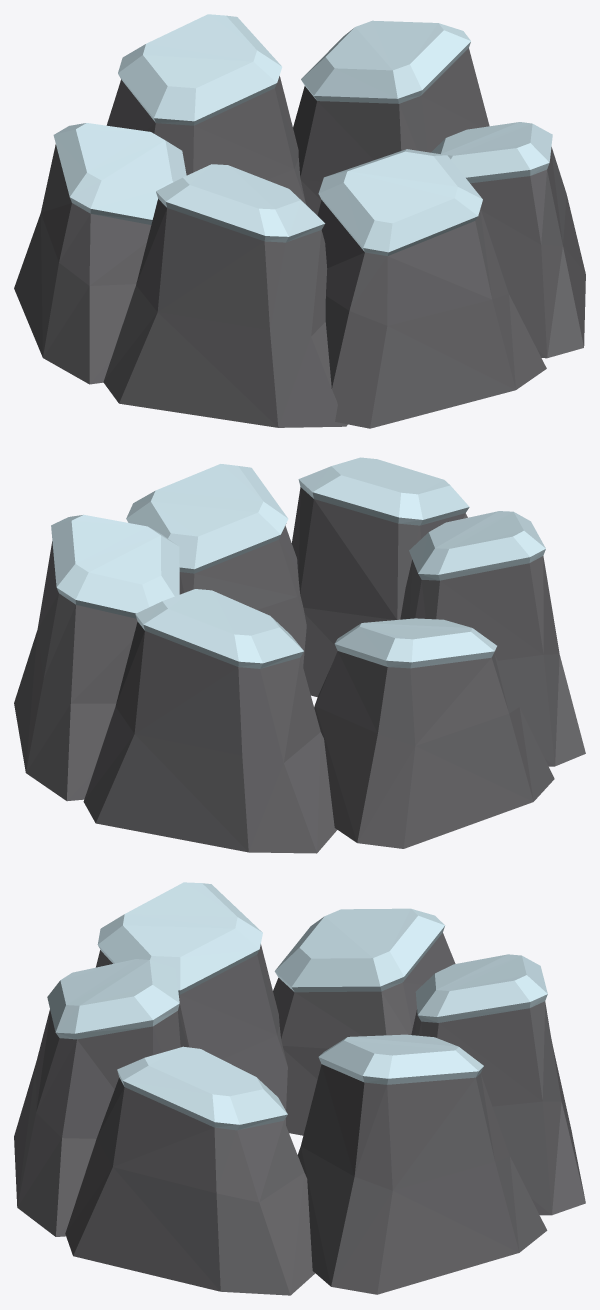
The model's file is SM_Prop_Rock_Circle_01_Snow.fbx.
3 renders of one model, top to bottom at view 1: azimuth 30°, elevation 25°; view 2: azimuth 150°, elevation 25°; view 3: azimuth 270°, elevation 25°, orthographic.
Visible parts, largest first — view 1: SM_Prop_Rock_Circle_01_Snow; view 2: SM_Prop_Rock_Circle_01_Snow; view 3: SM_Prop_Rock_Circle_01_Snow.
Boxes of the visible parts, x1=… form: SM_Prop_Rock_Circle_01_Snow: x1=14, y1=14, x2=585, y2=428; SM_Prop_Rock_Circle_01_Snow: x1=14, y1=457, x2=585, y2=853; SM_Prop_Rock_Circle_01_Snow: x1=14, y1=882, x2=585, y2=1295.
Bounding box in the file's own units: 260 × 105 × 258.
